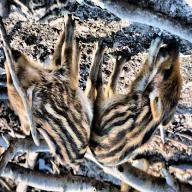boar: (87, 31, 187, 174), (0, 32, 93, 172)
